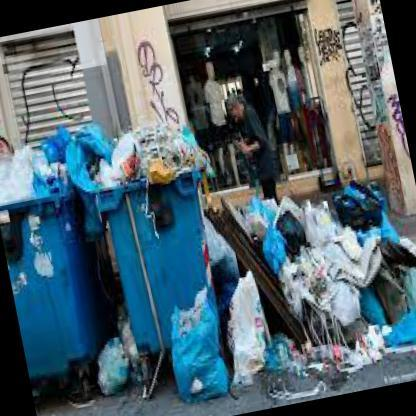Garbage: (240, 178, 382, 321), (287, 194, 392, 371), (49, 103, 203, 196), (341, 188, 415, 361), (158, 290, 232, 403), (218, 266, 280, 387), (0, 139, 80, 209), (93, 338, 144, 395)
